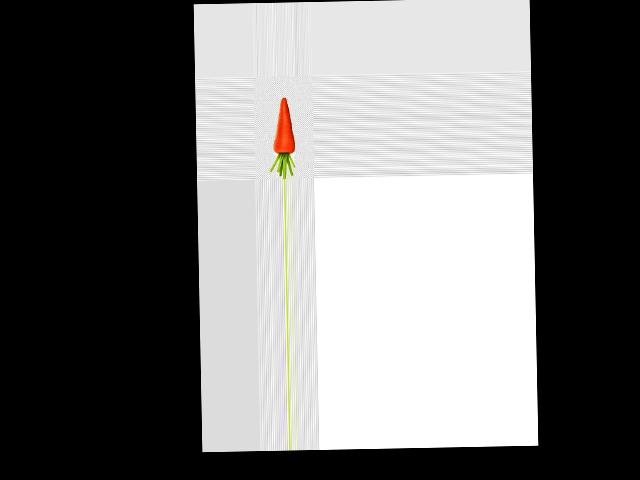carrot: (269, 95, 296, 158)
